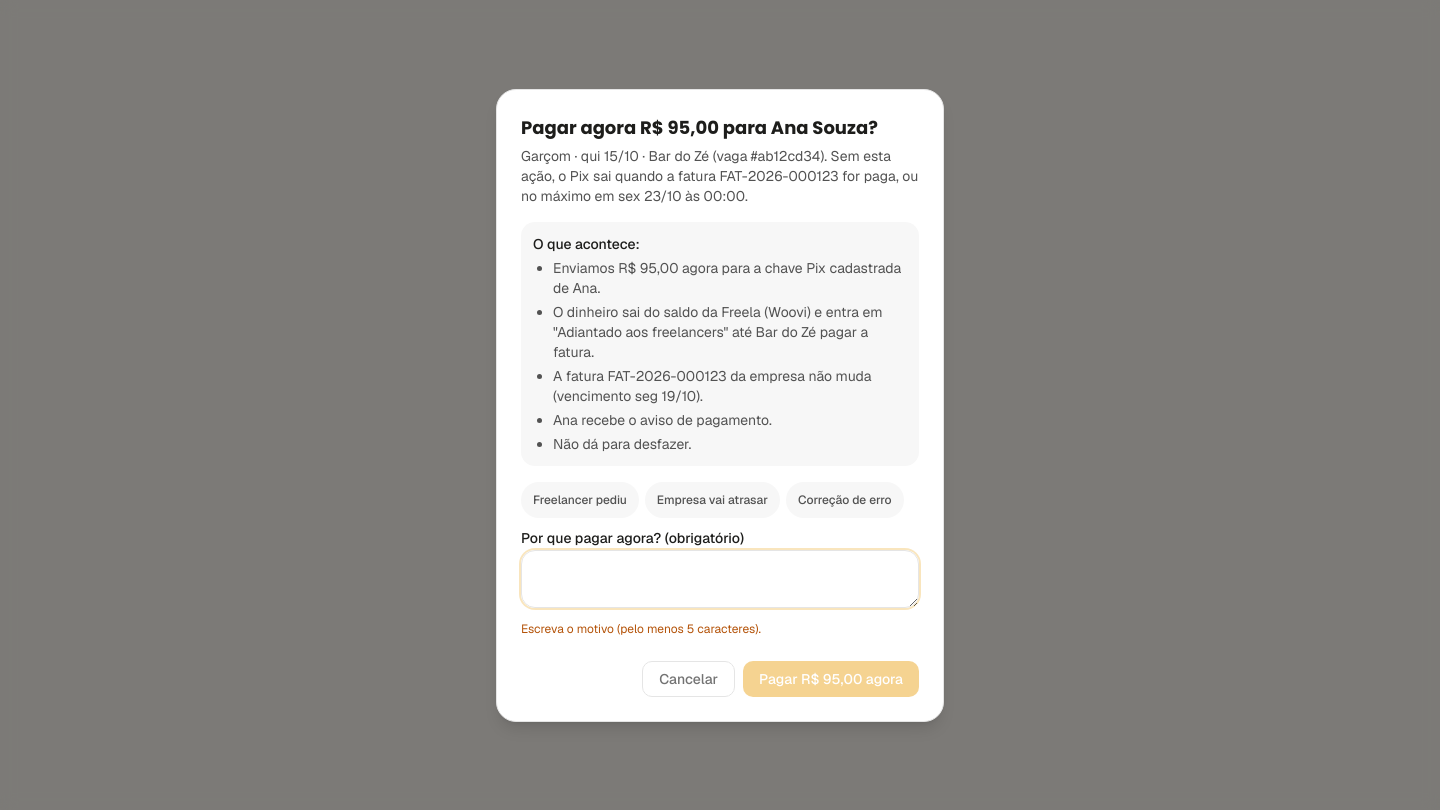
ReleasePayoutDialog › atalho de motivo preenche o campo
Click the button "Empresa vai atrasar" at x=712, y=500, box [645,482,780,518]
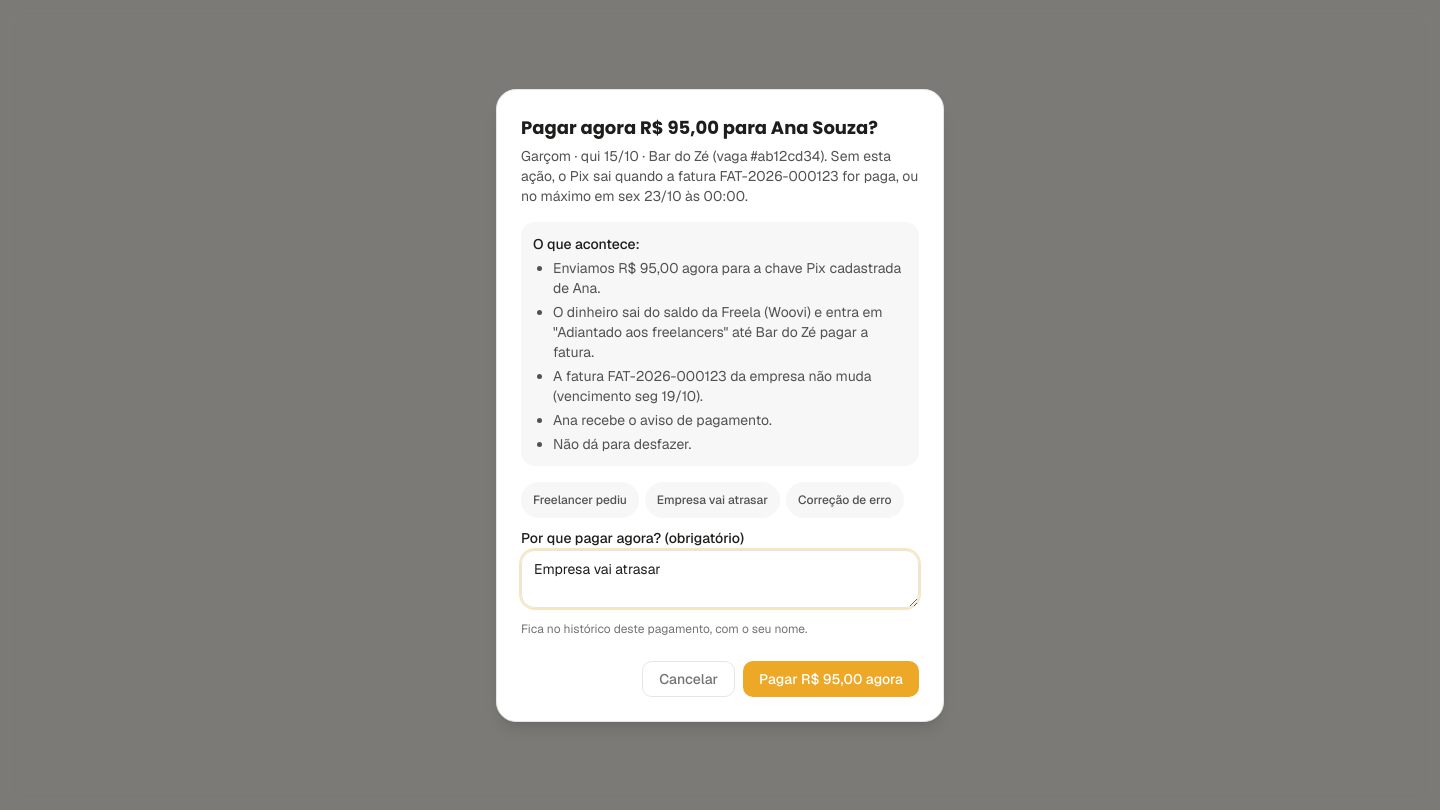
Now the text box labelled "Por que pagar agora? (obrigatório)" holds "Empresa vai atrasar", box [521,550,919,608]
